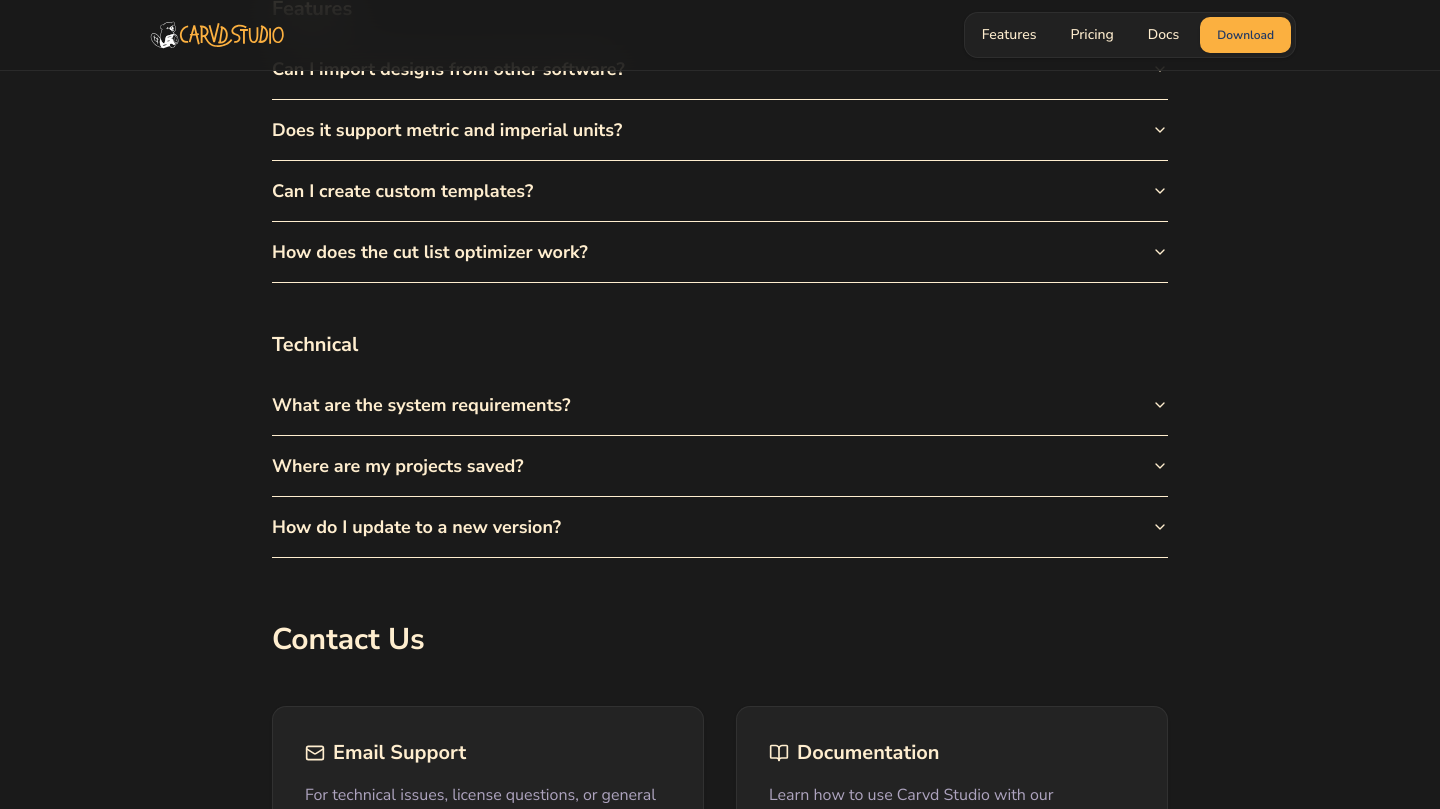
Test: SupportPage › FAQ Section › renders FAQ about system requirements
(page scrolled)
Step 1. Click the button "What are the system requirements?" → (421, 405), box [272,375,1168,435]
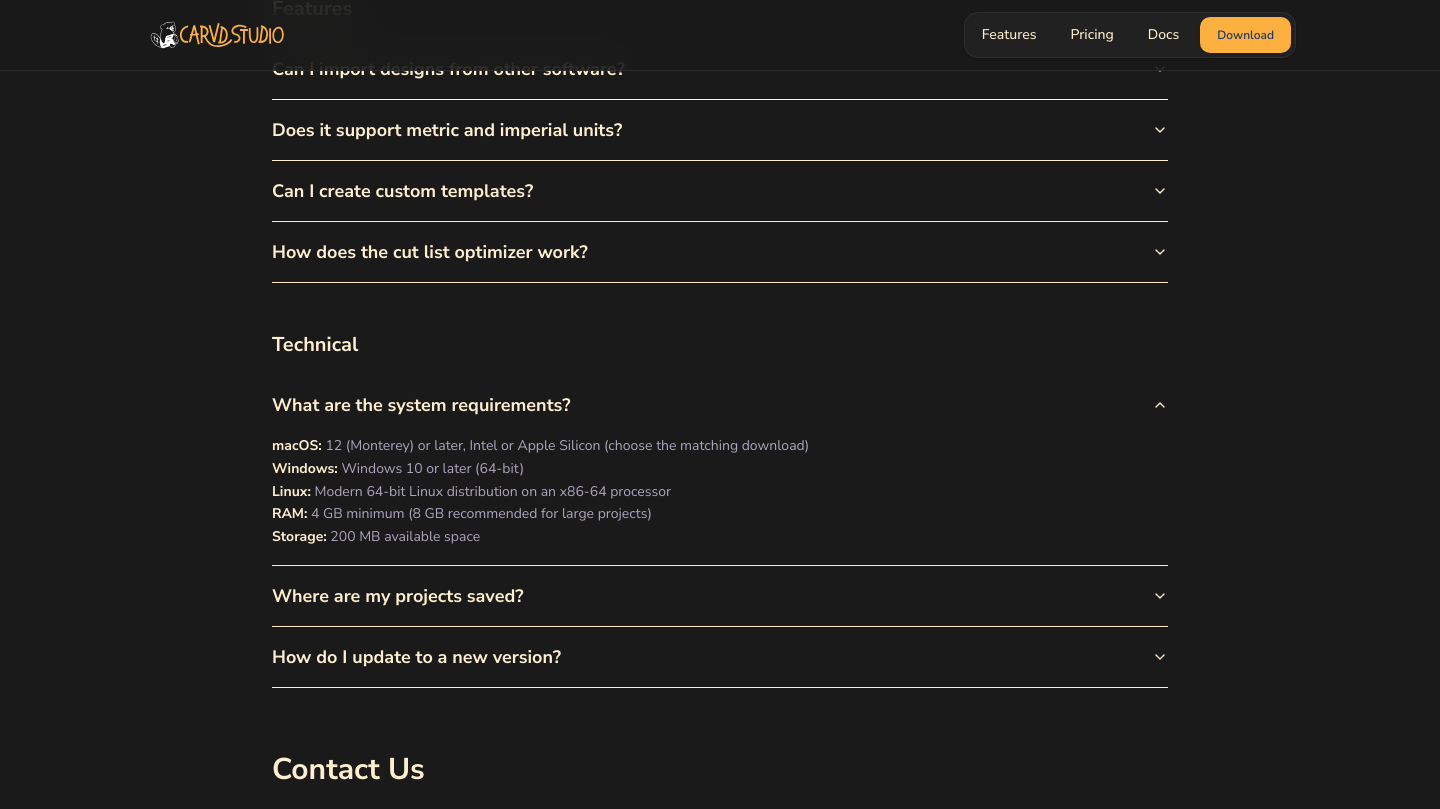
Expected: the text "12 (Monterey) or later" is shown, [322,436,809,455]
Expected: the text "Modern 64-bit Linux" is shown, [311,482,671,500]
